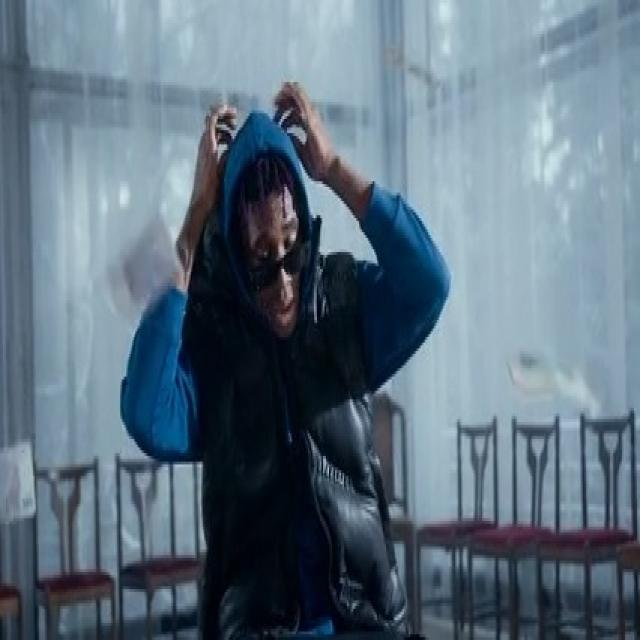Jacket_Wearer: (165, 254, 412, 640)
Person: (152, 52, 449, 640)
